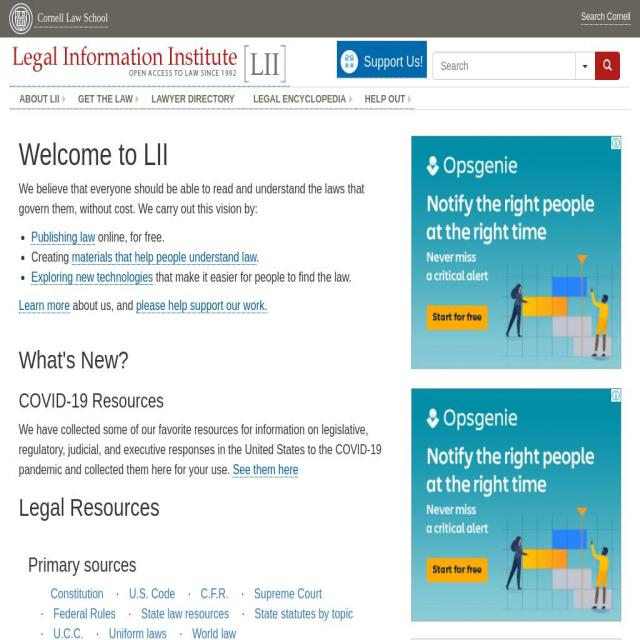button: (337, 44, 427, 78), (71, 250, 256, 265), (244, 88, 356, 109), (142, 88, 244, 109), (136, 298, 268, 314), (34, 0, 108, 28), (31, 270, 153, 285), (68, 88, 143, 109), (355, 88, 415, 109), (580, 0, 630, 25), (10, 88, 69, 109), (232, 462, 298, 478), (31, 230, 95, 245), (9, 0, 34, 38), (19, 298, 70, 314)
field: (432, 52, 576, 80)
heading: (19, 138, 392, 171), (19, 493, 392, 521), (19, 346, 392, 373), (28, 554, 383, 576), (18, 389, 164, 412)
iframe: (411, 388, 621, 622), (411, 136, 621, 369)
image: (10, 42, 290, 86), (10, 0, 34, 38), (602, 57, 612, 73)
link: (254, 607, 354, 621), (140, 607, 228, 621), (254, 587, 322, 601), (53, 607, 116, 621), (108, 626, 167, 640), (51, 587, 104, 601), (128, 587, 176, 601), (191, 626, 236, 640), (200, 587, 230, 601), (53, 626, 83, 640)
text: (19, 422, 381, 477), (19, 179, 392, 219), (152, 270, 352, 284), (364, 53, 424, 70), (95, 230, 165, 244), (70, 298, 136, 312), (575, 52, 596, 80), (31, 250, 72, 264), (256, 250, 260, 264)
